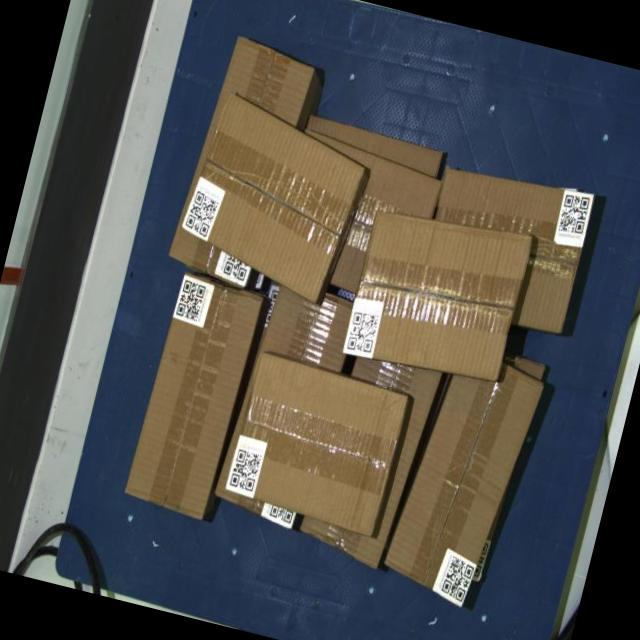box: (377, 346, 547, 614), (169, 88, 374, 308), (340, 197, 533, 391), (122, 270, 265, 521), (221, 350, 410, 536)
